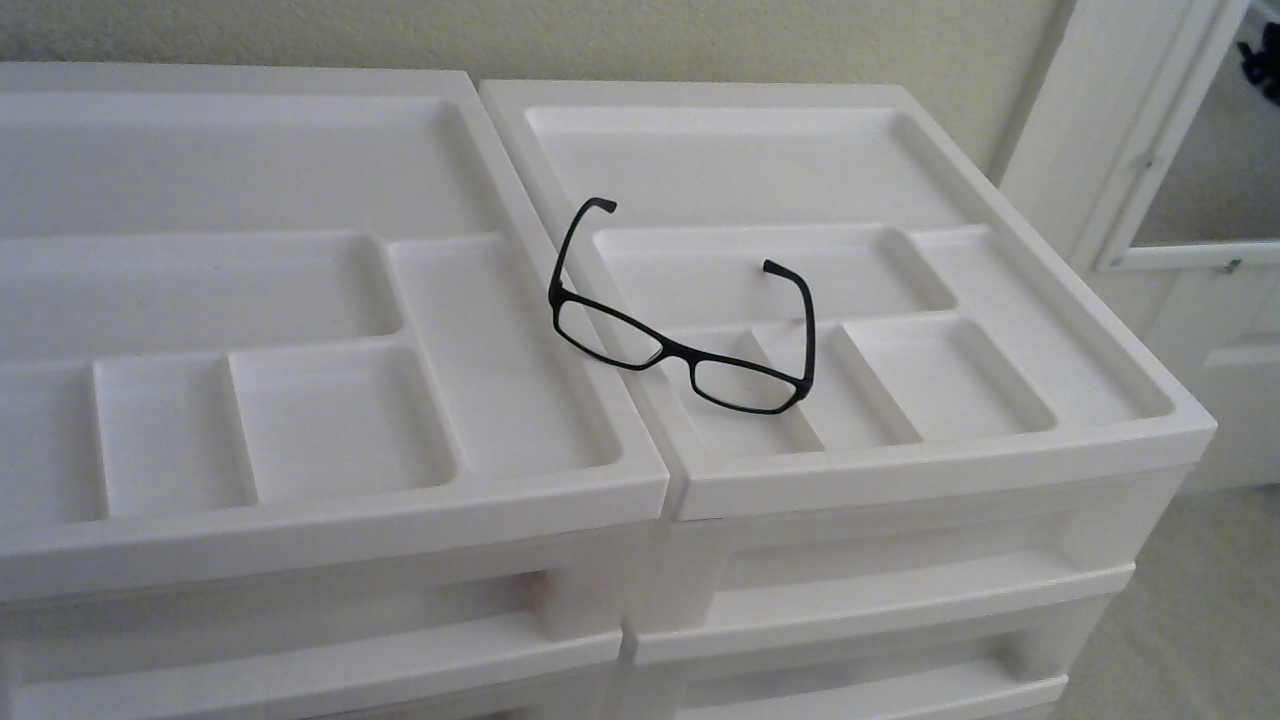Glasses: (542, 196, 837, 425)
